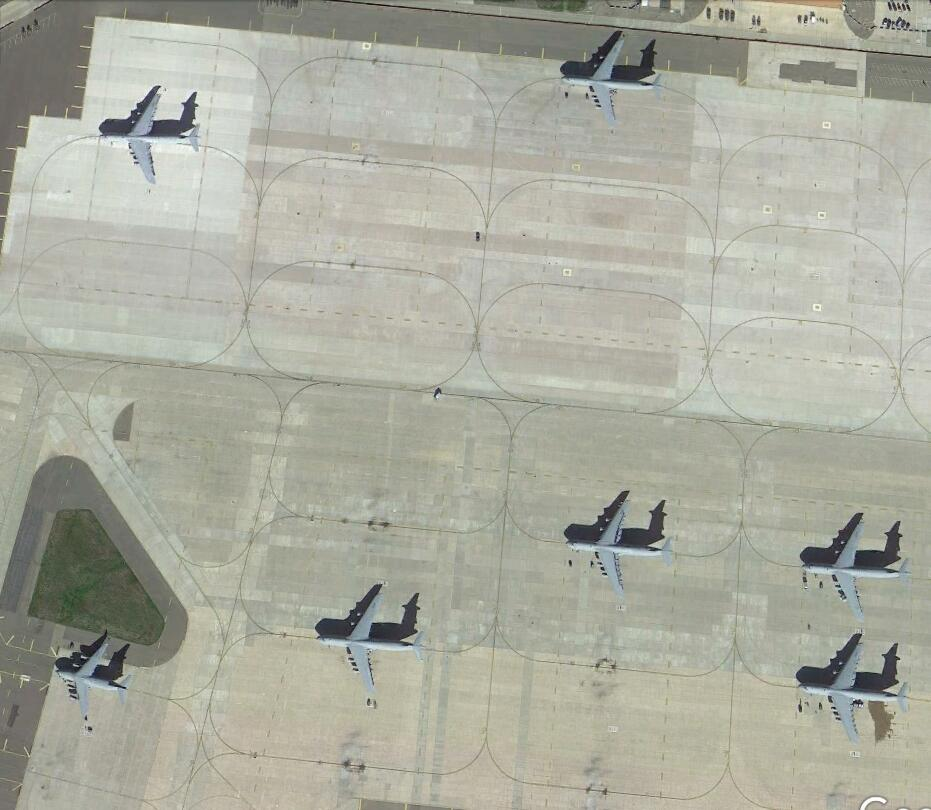A3: (52, 641, 132, 725)
A4: (797, 633, 909, 745), (801, 516, 909, 622), (317, 593, 425, 697), (565, 497, 672, 600), (562, 34, 664, 131), (98, 91, 202, 186)
